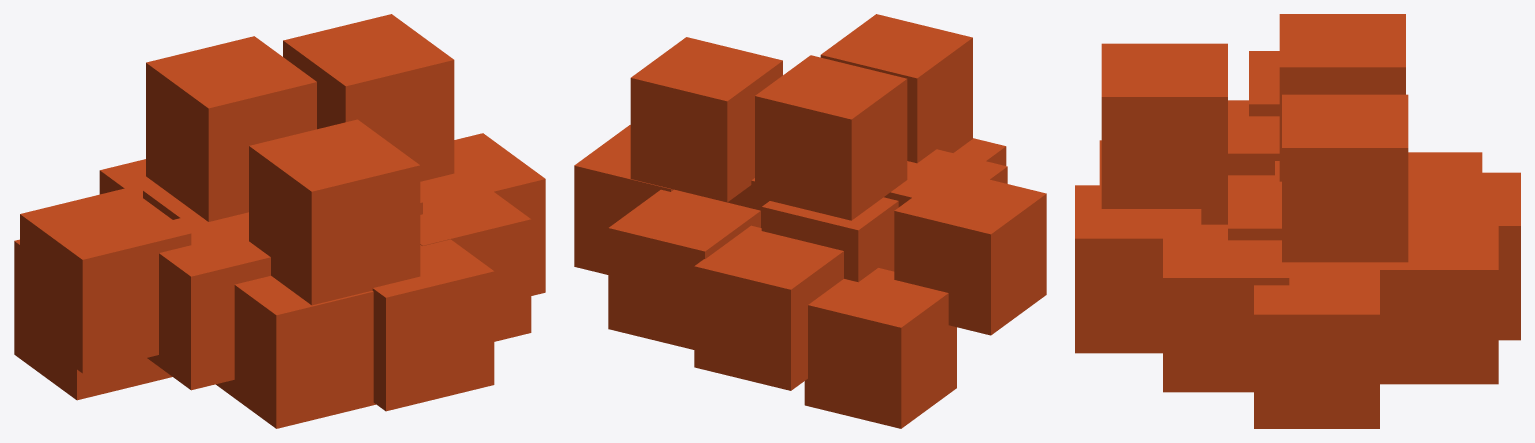
Rendered from carrot.fbx.
3 renders of one model, left to right at view 1: azimuth 30°, elevation 25°; view 2: azimuth 150°, elevation 25°; view 3: azimuth 270°, elevation 25°, orthographic. The views are drawn at different scales.
Visible parts, largest first — view 1: Cube; view 2: Cube; view 3: Cube.
Boxes of the visible parts, x1,y1,x2,y2 form: Cube: (14, 14, 545, 428); Cube: (574, 14, 1046, 428); Cube: (1075, 14, 1520, 428).
Bounding box in the file's own units: 214 × 131 × 177.
